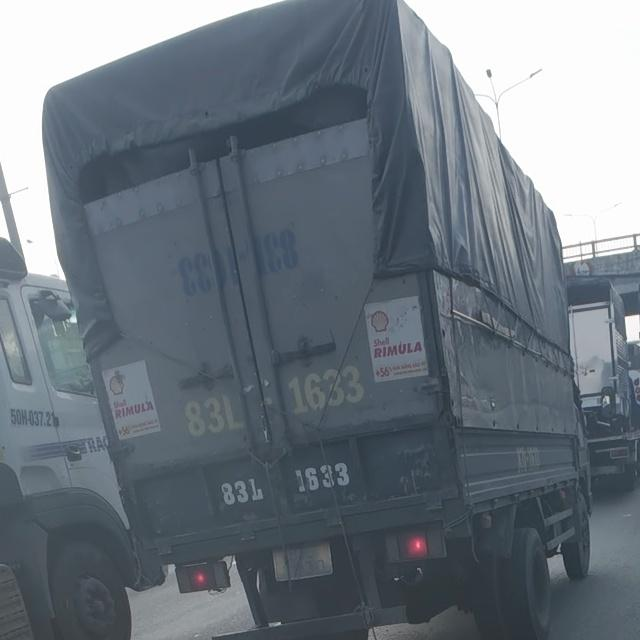license-plate: (272, 541, 333, 582)
